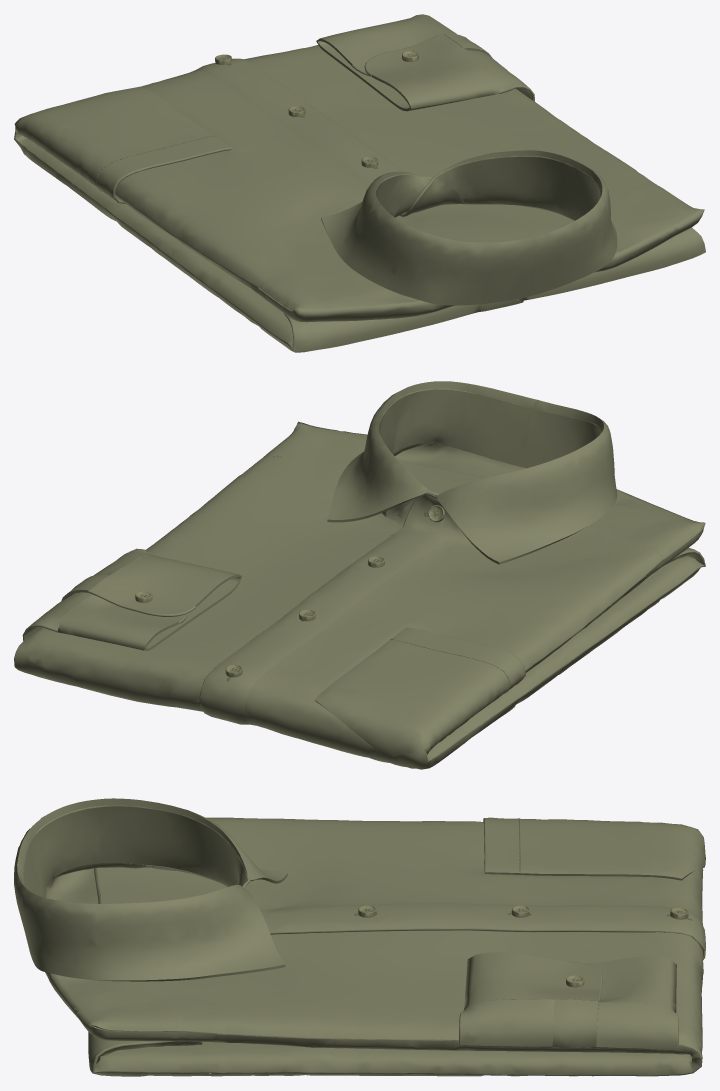
File: folded-shirt-men-decim20.glb
3 renders of one model, top to bottom at view 1: azimuth 30°, elevation 25°; view 2: azimuth 150°, elevation 25°; view 3: azimuth 270°, elevation 25°, orthographic. The views are drawn at different scales.
Visible parts, largest first — view 1: Cloth; view 2: Cloth; view 3: Cloth.
Boxes of the visible parts, left/top/right/bottom form: Cloth: left=14, top=14, right=705, bottom=352; Cloth: left=14, top=381, right=705, bottom=769; Cloth: left=14, top=798, right=705, bottom=1076.
Size of the model in its own units: 0.2825 by 0.0729 by 0.3776.
Materials: 47 (8 with a texture image).
